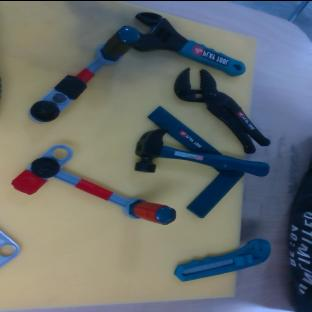non_pass: (26, 18, 144, 130)
pass: (10, 133, 187, 238)
